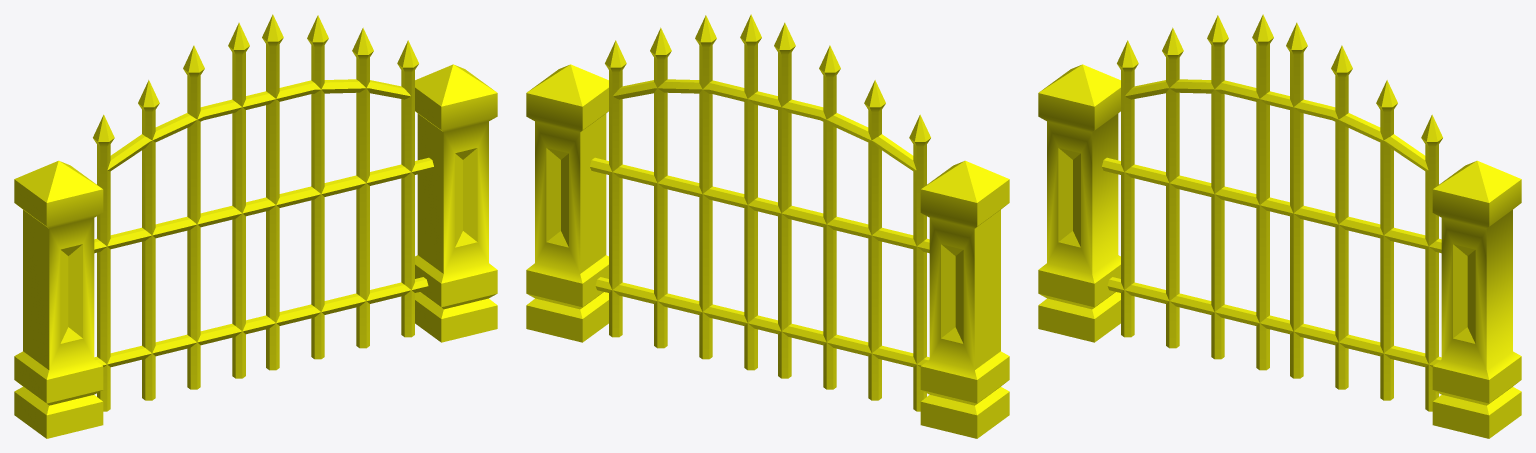
Rendered from kaykit-fence-gate.glb.
3 views of the same model, side by side, from view 1: azimuth 30°, elevation 25°; view 2: azimuth 150°, elevation 25°; view 3: azimuth 330°, elevation 25° (orthographic).
Visible parts, largest first — view 1: fence_gate; view 2: fence_gate; view 3: fence_gate.
Boxes of the visible parts, box(x1,y1,x2,y2) form: fence_gate: box(14, 14, 497, 438); fence_gate: box(526, 14, 1009, 438); fence_gate: box(1038, 14, 1521, 438).
Size of the model in its own units: 4 by 3 by 0.5.
